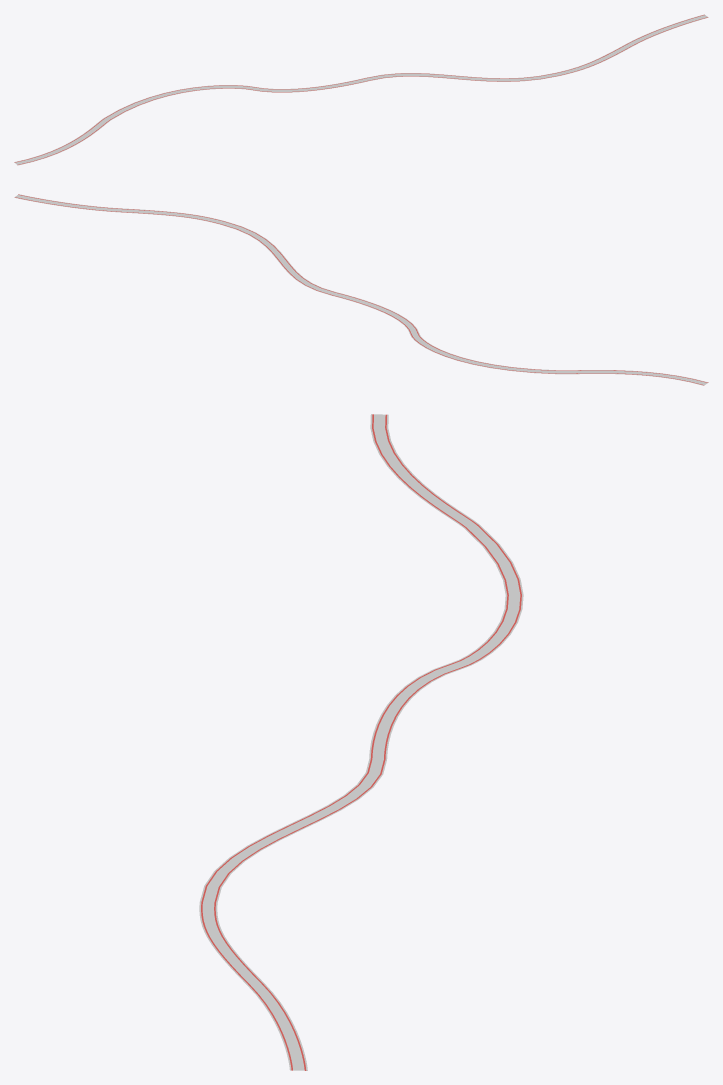
The model's file is road.fbx.
The picture shows the model from 3 angles, top to bottom: view 1: azimuth 30°, elevation 25°; view 2: azimuth 150°, elevation 25°; view 3: azimuth 270°, elevation 25°; orthographic projection. The views are drawn at different scales.
Visible parts, largest first — view 1: BezierCurve; view 2: BezierCurve; view 3: BezierCurve.
Boxes of the visible parts, left/top/right/bottom form: BezierCurve: left=14, top=14, right=708, bottom=165; BezierCurve: left=14, top=194, right=708, bottom=385; BezierCurve: left=199, top=414, right=523, bottom=1070.
Bounding box in the file's own units: 17210 × 25.85 × 3603.
